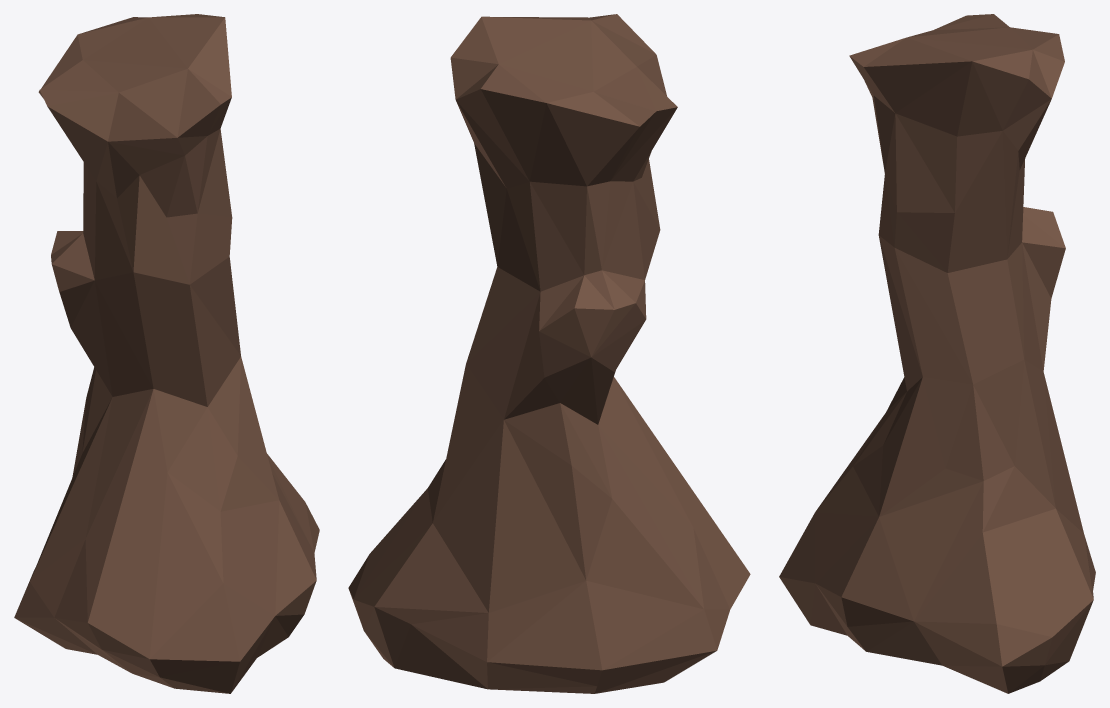
Rendered from large_rock4.glb.
3 renders of one model, left to right at view 1: azimuth 30°, elevation 25°; view 2: azimuth 150°, elevation 25°; view 3: azimuth 270°, elevation 25°, orthographic. The views are drawn at different scales.
Parts seen in each view (by area): view 1: large_rock4; view 2: large_rock4; view 3: large_rock4.
Boxes of the visible parts, <box> form: large_rock4: <box>14,14,319,693</box>; large_rock4: <box>348,14,750,693</box>; large_rock4: <box>779,14,1095,693</box>.
Size of the model in its own units: 5.64 by 9.95 by 4.74.
